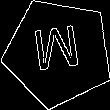M_S: (31, 24, 85, 81)
